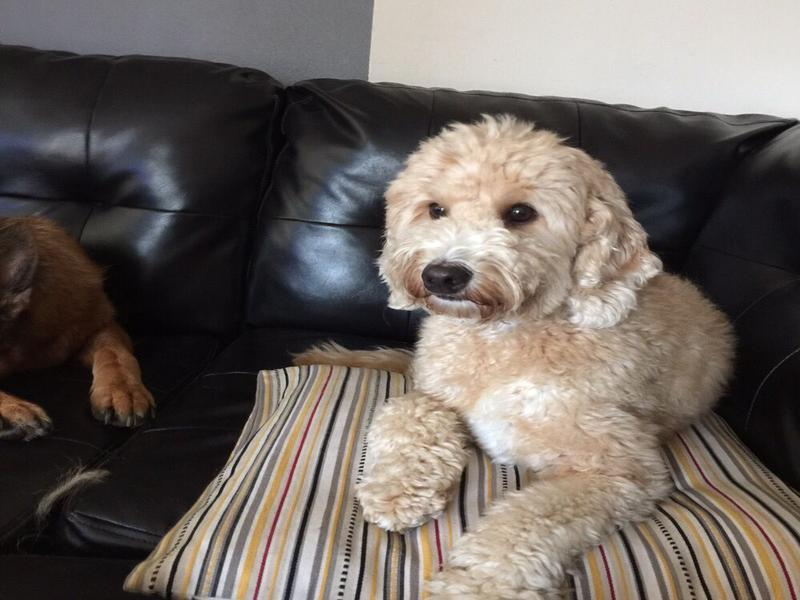dog_down: (349, 103, 735, 600)
